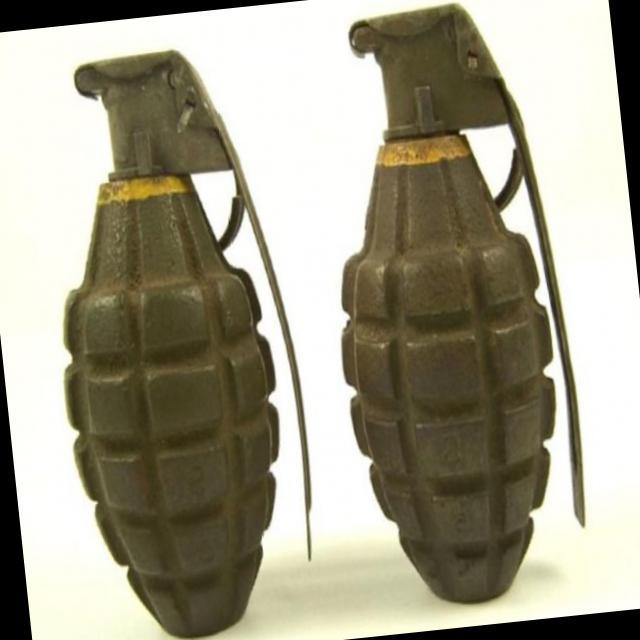grenade: (296, 0, 600, 627), (25, 32, 334, 640)
